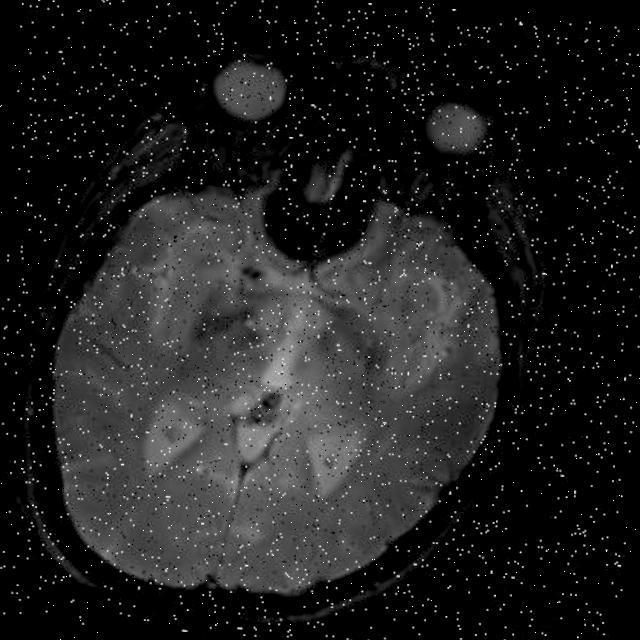LMCI: (167, 253, 288, 398), (303, 288, 405, 396)
